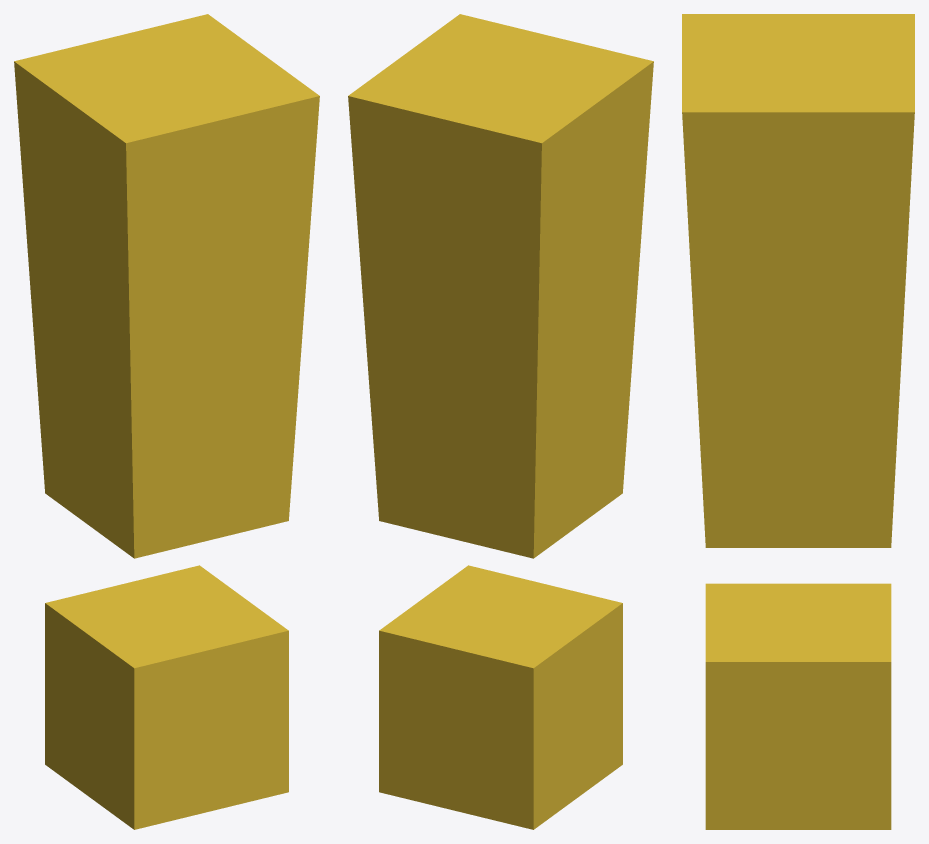
The picture shows the model from 3 angles, left to right: view 1: azimuth 30°, elevation 25°; view 2: azimuth 150°, elevation 25°; view 3: azimuth 270°, elevation 25°; orthographic projection. The views are drawn at different scales.
Parts seen in each view (by area): view 1: Cube.005; view 2: Cube.005; view 3: Cube.005.
Boxes of the visible parts, box(x1,y1,x2,y2) form: Cube.005: box(14, 14, 319, 829); Cube.005: box(348, 14, 653, 829); Cube.005: box(682, 14, 914, 829).
Size of the model in its own units: 251 by 866 by 251.
